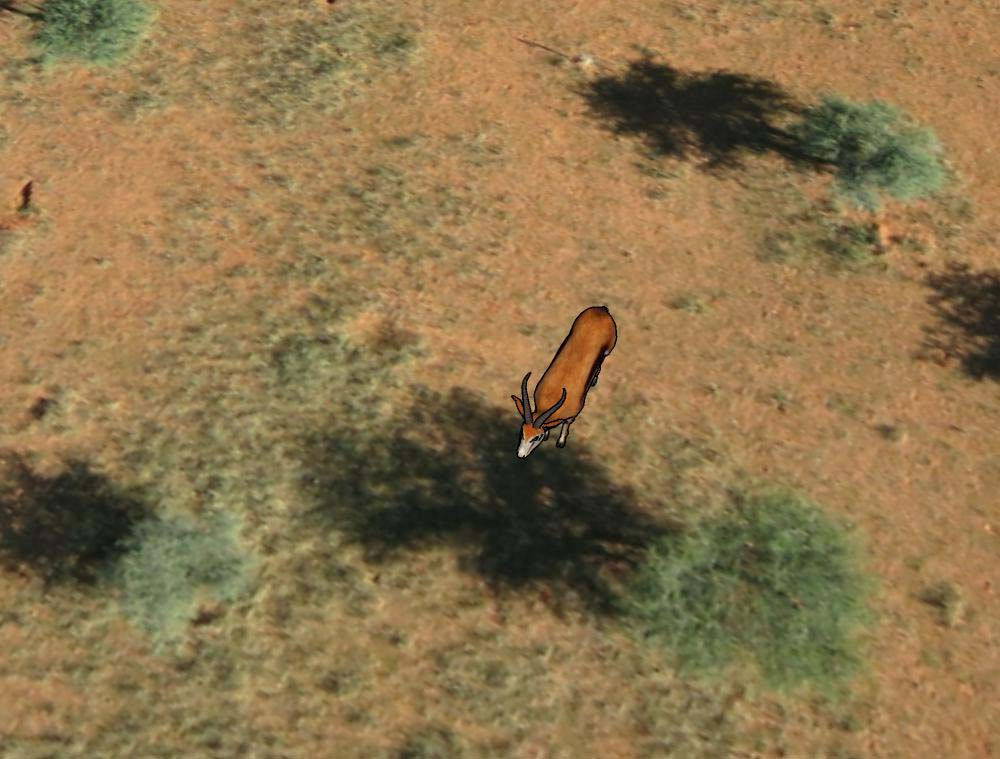springbok: (511, 300, 618, 464)
